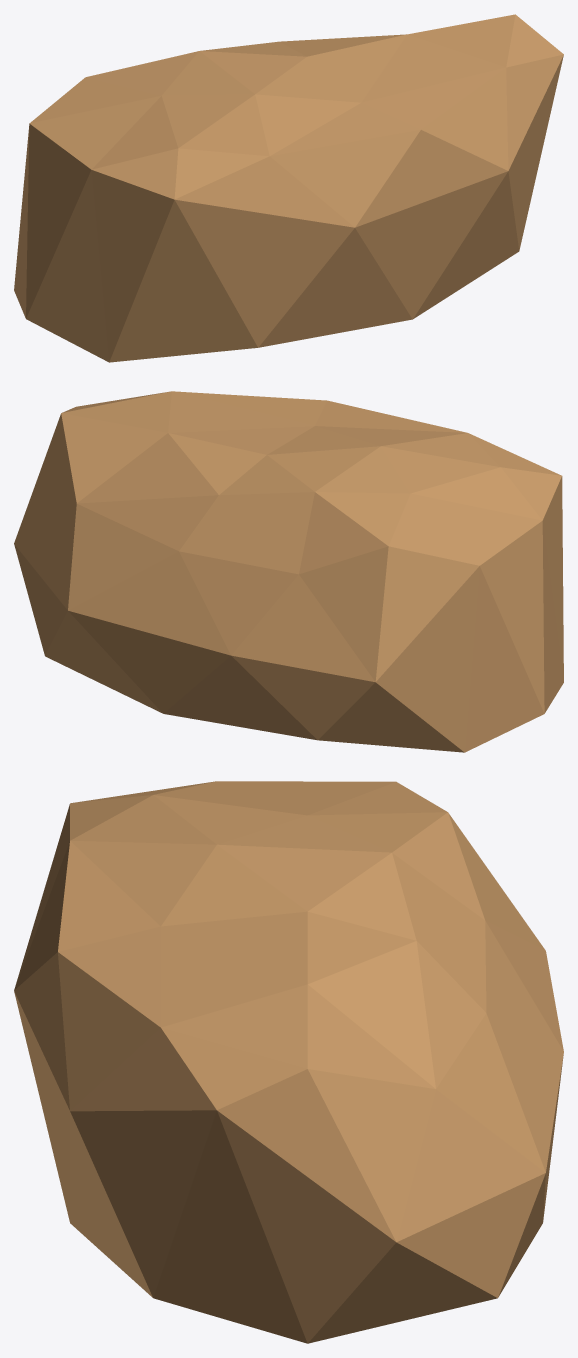
File: Rock Orange Sm 002.fbx
The picture shows the model from 3 angles, top to bottom: view 1: azimuth 30°, elevation 25°; view 2: azimuth 150°, elevation 25°; view 3: azimuth 270°, elevation 25°; orthographic projection. The views are drawn at different scales.
Visible parts, largest first — view 1: Rock 002.006; view 2: Rock 002.006; view 3: Rock 002.006.
Part boxes in pixels (box(x1,y1,x2,y2)): Rock 002.006: box(14, 14, 563, 362); Rock 002.006: box(14, 391, 563, 752); Rock 002.006: box(14, 781, 563, 1343).
Size of the model in its own units: 120 by 48.37 by 79.16.
